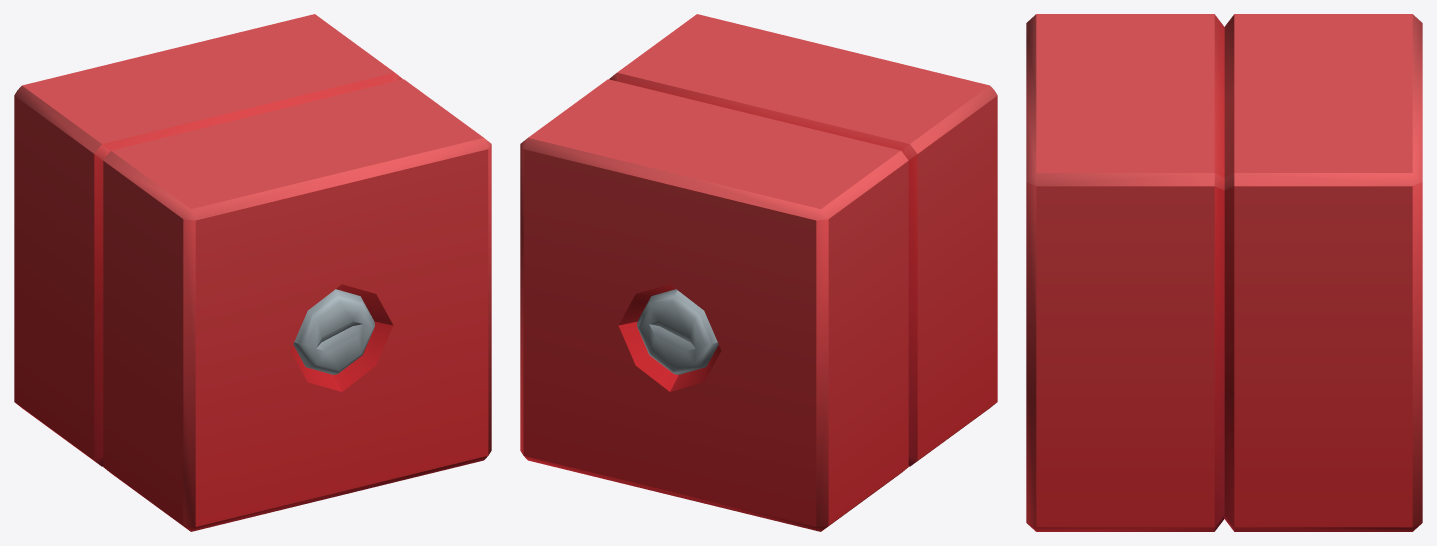
Rendered from platform_decorative_2x2x2_red.glb.
The picture shows the model from 3 angles, left to right: view 1: azimuth 30°, elevation 25°; view 2: azimuth 150°, elevation 25°; view 3: azimuth 270°, elevation 25°; orthographic projection. The views are drawn at different scales.
Visible parts, largest first — view 1: platform_decorative_2x2x2_red; view 2: platform_decorative_2x2x2_red; view 3: platform_decorative_2x2x2_red.
Boxes of the visible parts, left/top/right/bottom form: platform_decorative_2x2x2_red: left=14, top=14, right=491, bottom=531; platform_decorative_2x2x2_red: left=520, top=14, right=997, bottom=531; platform_decorative_2x2x2_red: left=1026, top=14, right=1422, bottom=531.
Bounding box in the file's own units: 2 × 2 × 2.
1 material, 1 textured.
